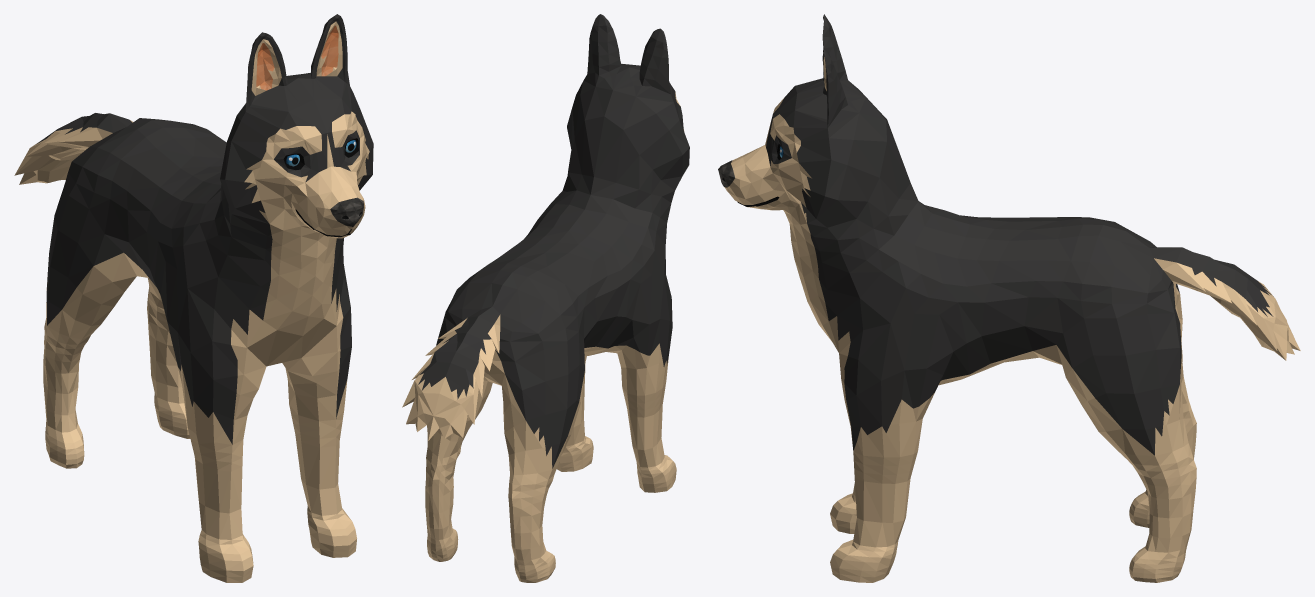
The model's file is KAI.fbx.
3 renders of one model, left to right at view 1: azimuth 30°, elevation 25°; view 2: azimuth 150°, elevation 25°; view 3: azimuth 270°, elevation 25°, orthographic. The views are drawn at different scales.
Parts seen in each view (by area): view 1: Husky_KAI; view 2: Husky_KAI; view 3: Husky_KAI.
Part boxes in pixels (x1=…): Husky_KAI: x1=14, y1=14, x2=373, y2=582; Husky_KAI: x1=402, y1=14, x2=689, y2=582; Husky_KAI: x1=718, y1=14, x2=1300, y2=582.
Bounding box in the file's own units: 1.68 × 5.19 × 5.28.
